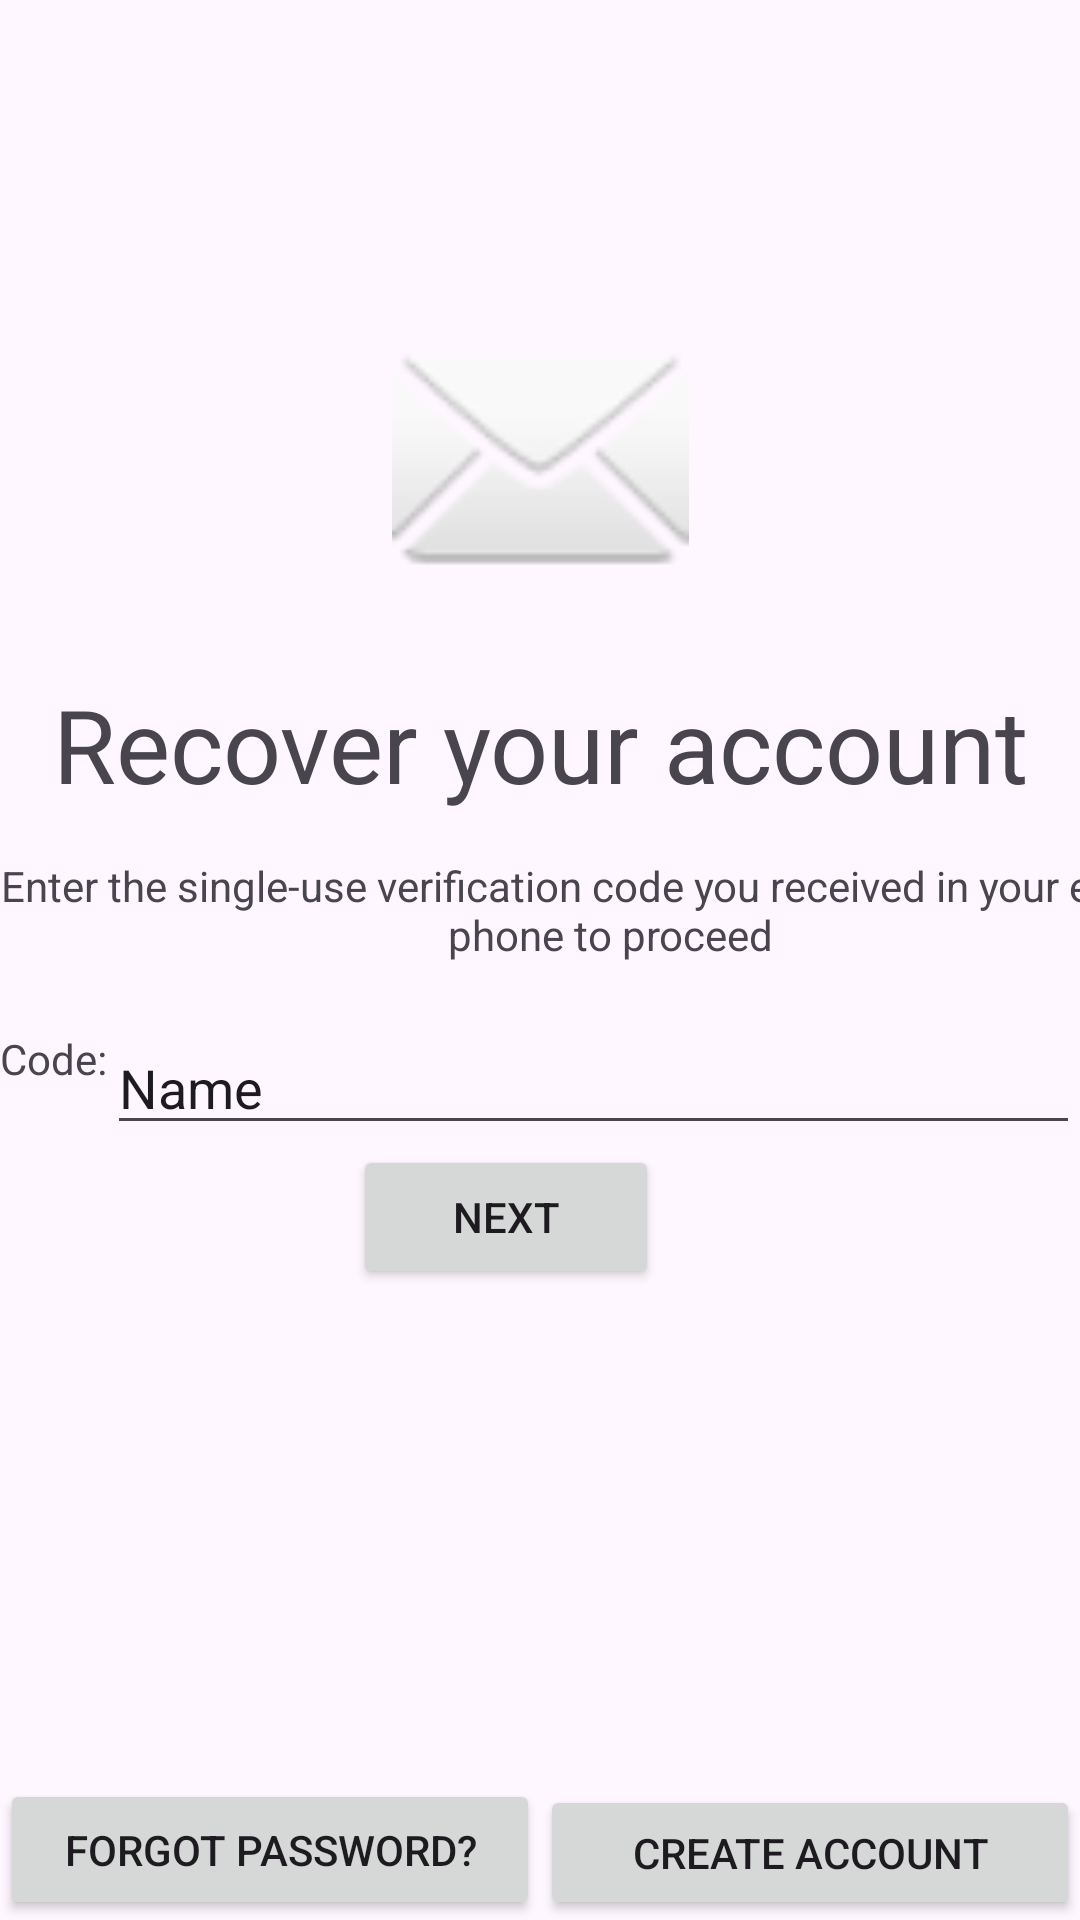

Icons on this 1080 x 1920 Android screen, each with its box as detection(x1, y1, x2, y2):
email: detection(392, 360, 689, 564)
